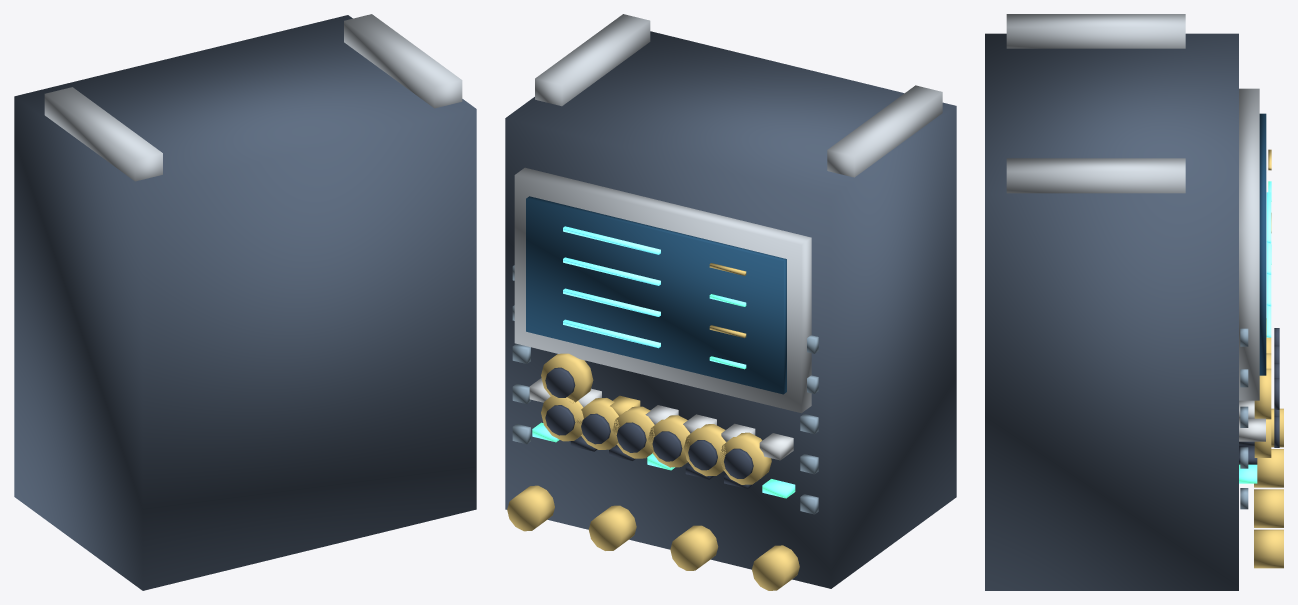
The model's file is L85_65_PrecisionDockingCameraMonitor_Fitted.fbx.
The picture shows the model from 3 angles, left to right: view 1: azimuth 30°, elevation 25°; view 2: azimuth 150°, elevation 25°; view 3: azimuth 270°, elevation 25°; orthographic projection. The views are drawn at different scales.
Parts seen in each view (by area): view 1: L85_PrecisionDockingCameraMonitor_Static__tint1A2434, L85_PrecisionDockingCameraMonitor_Static__tintA8B8C7; view 2: L85_PrecisionDockingCameraMonitor_Static__tint1A2434, L85_PrecisionDockingCameraMonitor_Static__tint071C3B, L85_PrecisionDockingCameraMonitor_Static__tintA8B8C7, L85_PrecisionDockingCameraMonitor_Static__tintF7B83D, L85_PrecisionDockingCameraMonitor_Static__tint111724, L85_PrecisionDockingCameraMonitor_Static__tint2ED9FA, L85_PrecisionDockingCameraMonitor_Static__tint527391, L85_PrecisionDockingCameraMonitor_Static__tintCCD9E3, L85_PrecisionDockingCameraMonitor_Static__tint24F09C; view 3: L85_PrecisionDockingCameraMonitor_Static__tint1A2434, L85_PrecisionDockingCameraMonitor_Static__tintA8B8C7, L85_PrecisionDockingCameraMonitor_Static__tintF7B83D, L85_PrecisionDockingCameraMonitor_Static__tint071C3B, L85_PrecisionDockingCameraMonitor_Static__tint111724, L85_PrecisionDockingCameraMonitor_Static__tint527391, L85_PrecisionDockingCameraMonitor_Static__tint2ED9FA, L85_PrecisionDockingCameraMonitor_Static__tintCCD9E3, L85_PrecisionDockingCameraMonitor_Static__tint24F09C.
Boxes of the visible parts, <box> form: L85_PrecisionDockingCameraMonitor_Static__tint1A2434: <box>14,15,476,590</box>; L85_PrecisionDockingCameraMonitor_Static__tintA8B8C7: <box>44,14,462,181</box>; L85_PrecisionDockingCameraMonitor_Static__tint1A2434: <box>505,31,956,588</box>; L85_PrecisionDockingCameraMonitor_Static__tint071C3B: <box>526,196,786,394</box>; L85_PrecisionDockingCameraMonitor_Static__tintA8B8C7: <box>514,14,942,413</box>; L85_PrecisionDockingCameraMonitor_Static__tintF7B83D: <box>507,263,799,590</box>; L85_PrecisionDockingCameraMonitor_Static__tint111724: <box>545,367,756,488</box>; L85_PrecisionDockingCameraMonitor_Static__tint2ED9FA: <box>563,226,660,348</box>; L85_PrecisionDockingCameraMonitor_Static__tint527391: <box>512,265,818,514</box>; L85_PrecisionDockingCameraMonitor_Static__tintCCD9E3: <box>529,378,793,460</box>; L85_PrecisionDockingCameraMonitor_Static__tint24F09C: <box>532,294,795,498</box>; L85_PrecisionDockingCameraMonitor_Static__tint1A2434: <box>985,33,1238,590</box>; L85_PrecisionDockingCameraMonitor_Static__tintA8B8C7: <box>1006,14,1259,400</box>; L85_PrecisionDockingCameraMonitor_Static__tintF7B83D: <box>1254,149,1283,568</box>; L85_PrecisionDockingCameraMonitor_Static__tint071C3B: <box>1259,113,1266,375</box>; L85_PrecisionDockingCameraMonitor_Static__tint111724: <box>1239,328,1279,464</box>; L85_PrecisionDockingCameraMonitor_Static__tint527391: <box>1240,328,1248,509</box>; L85_PrecisionDockingCameraMonitor_Static__tint2ED9FA: <box>1266,192,1271,337</box>; L85_PrecisionDockingCameraMonitor_Static__tintCCD9E3: <box>1239,400,1265,441</box>; L85_PrecisionDockingCameraMonitor_Static__tint24F09C: <box>1239,181,1271,483</box>.
Size of the model in its own units: 9.2 by 11.13 by 7.22.
